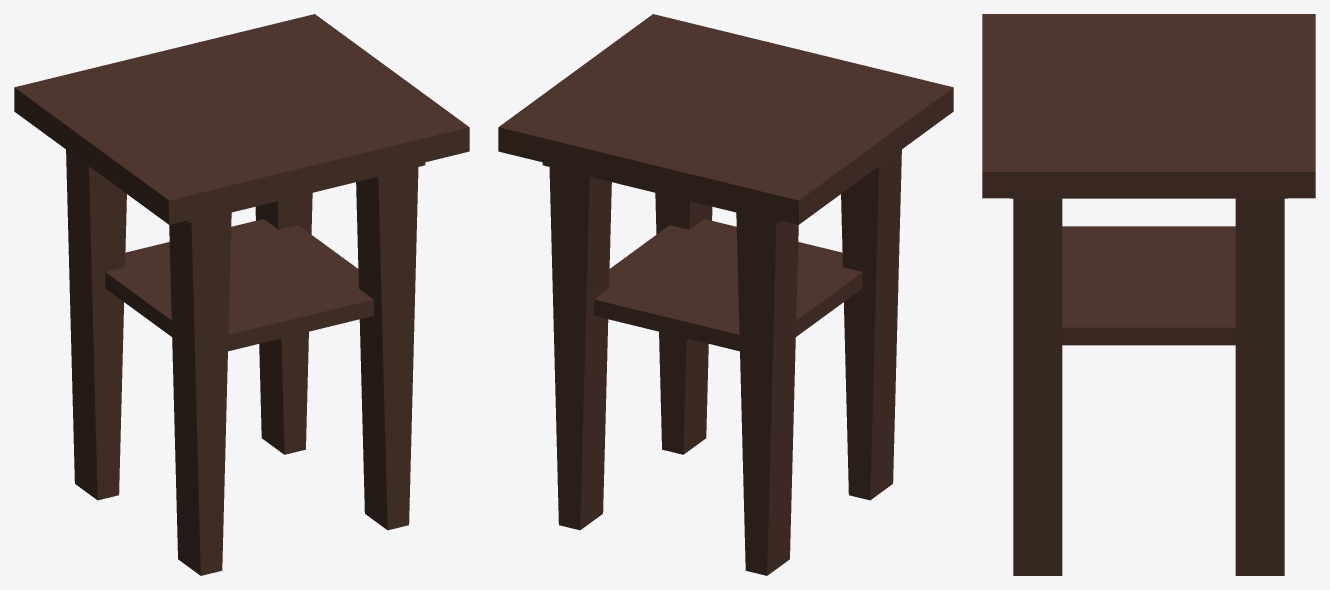
The model's file is CoffeeTable_02.fbx.
The picture shows the model from 3 angles, left to right: view 1: azimuth 30°, elevation 25°; view 2: azimuth 150°, elevation 25°; view 3: azimuth 270°, elevation 25°; orthographic projection. The views are drawn at different scales.
Visible parts, largest first — view 1: CoffeeTable_02; view 2: CoffeeTable_02; view 3: CoffeeTable_02.
Boxes of the visible parts, <box> form: CoffeeTable_02: <box>14,14,469,575</box>; CoffeeTable_02: <box>498,14,953,575</box>; CoffeeTable_02: <box>982,14,1315,575</box>.
Size of the model in its own units: 0.4329 by 0.5468 by 0.386.
